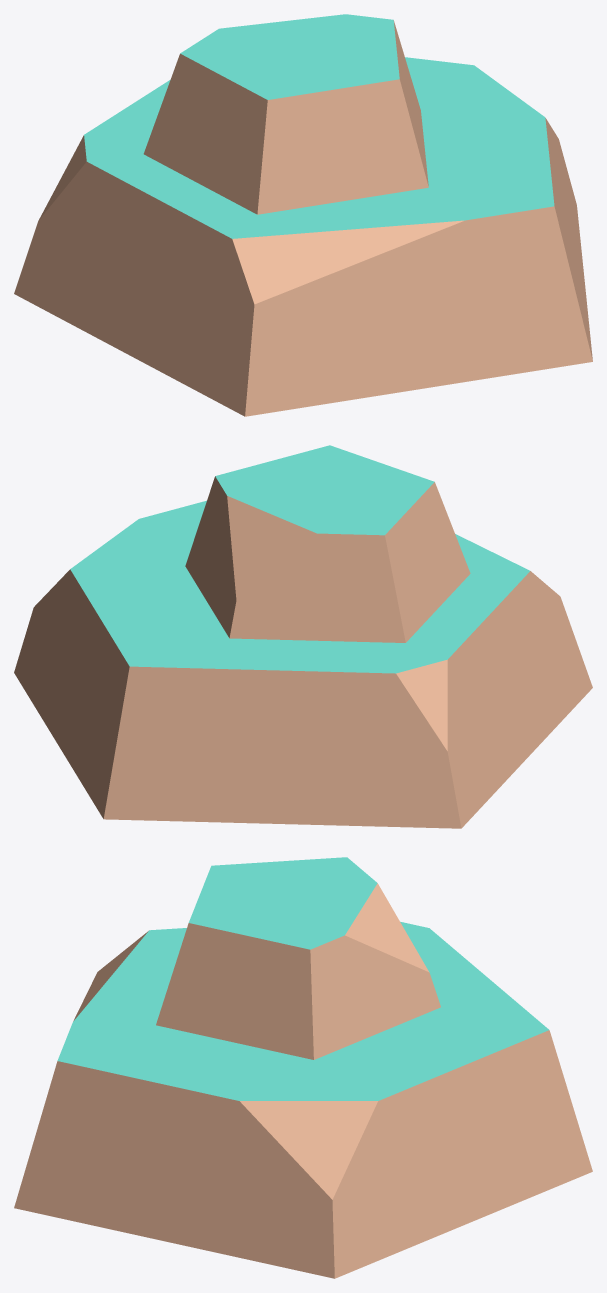
The picture shows the model from 3 angles, top to bottom: view 1: azimuth 30°, elevation 25°; view 2: azimuth 150°, elevation 25°; view 3: azimuth 270°, elevation 25°; orthographic projection. The views are drawn at different scales.
Parts seen in each view (by area): view 1: rock_smallTopA; view 2: rock_smallTopA; view 3: rock_smallTopA.
Boxes of the visible parts, x1=… form: rock_smallTopA: x1=14, y1=14, x2=592, y2=416; rock_smallTopA: x1=14, y1=445, x2=592, y2=828; rock_smallTopA: x1=14, y1=857, x2=592, y2=1278.
Size of the model in its own units: 0.4877 by 0.22 by 0.4891.
